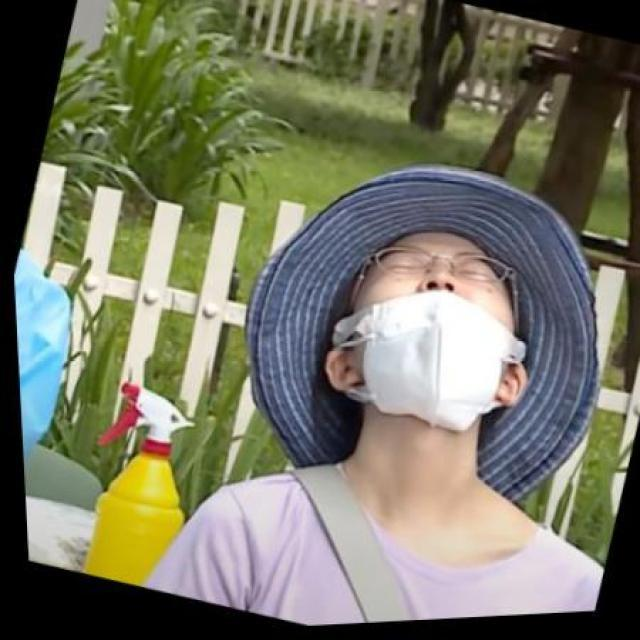hairnet: (342, 237, 514, 446)
